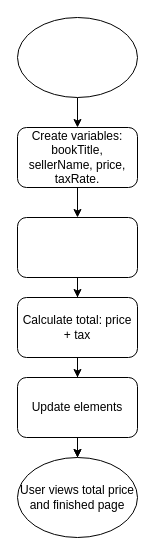
Image size: 155x555. Some labels were removed from this diagram. The centre of each missing label's shape, as x and y in pixels:
"Calculate tax: price * taxRate." belongs at (x=77, y=247).
"User clicks on checkout example" belongs at (x=77, y=57).
